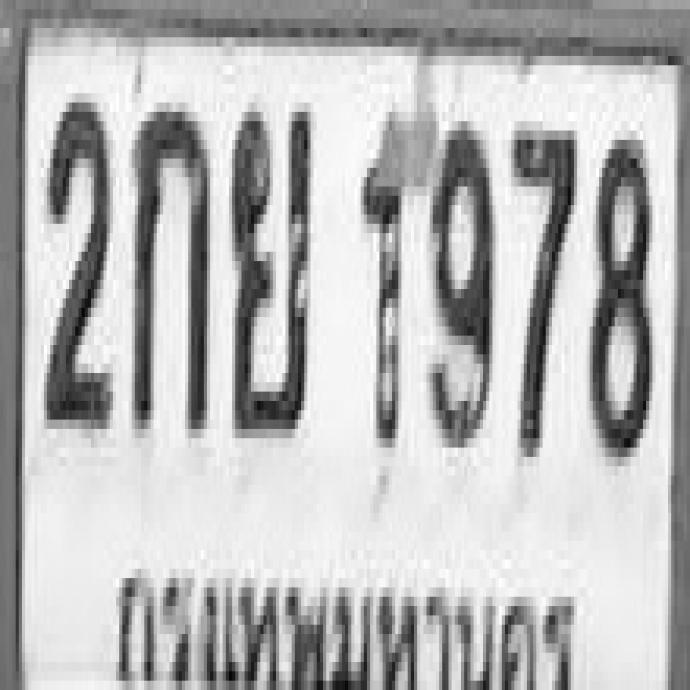1: (358, 104, 400, 439)
2: (42, 91, 108, 419)
7: (509, 119, 573, 445)
8: (586, 129, 649, 447)
9: (426, 111, 490, 438)
A01: (129, 95, 207, 425)
A34: (228, 95, 308, 428)
BKK: (102, 539, 587, 689)
